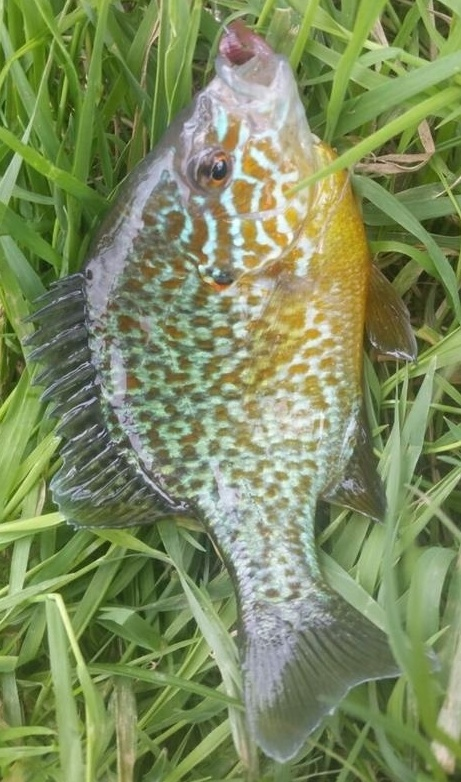Lepomis gibbosus: (20, 20, 441, 762)
